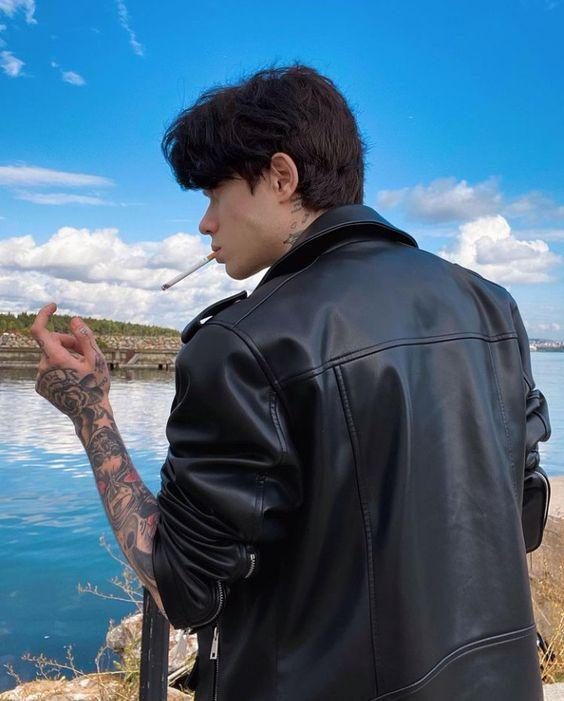cigarette: (161, 251, 219, 291)
